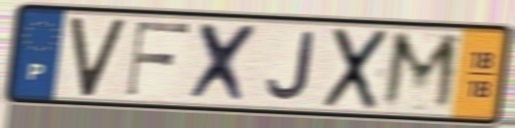F: (122, 19, 194, 99)
J: (264, 29, 317, 103)
M: (377, 28, 464, 116)
V: (67, 16, 129, 99)
X: (185, 20, 264, 106), (319, 26, 393, 113)
